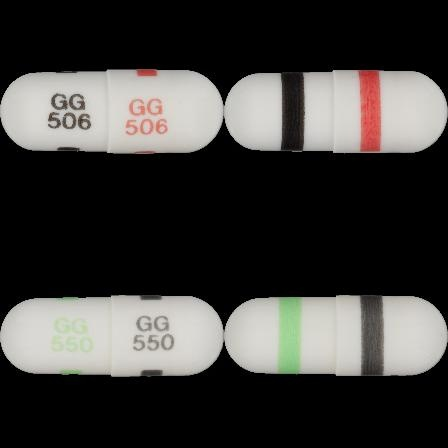0781-2810: (0, 0, 224, 224)
